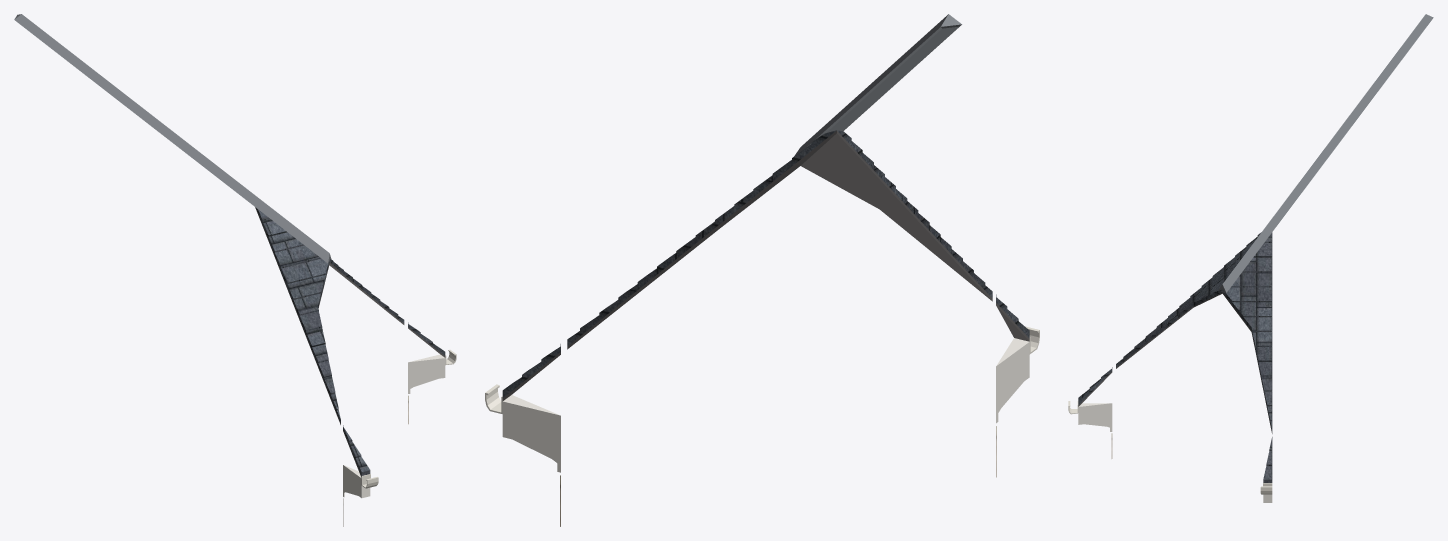
Rendered from roof_turret.glb.
The picture shows the model from 3 angles, left to right: view 1: azimuth 30°, elevation 25°; view 2: azimuth 150°, elevation 25°; view 3: azimuth 270°, elevation 25°; orthographic projection. The views are drawn at different scales.
Visible parts, largest first — view 1: roof_turret_shingles, roof_turret_ridge, roof_turret_trim, roof_turret_dark; view 2: roof_turret_dark, roof_turret_trim, roof_turret_shingles, roof_turret_ridge, roof_turret_gutter; view 3: roof_turret_shingles, roof_turret_ridge, roof_turret_trim, roof_turret_dark.
Part boxes in pixels (x1=…): roof_turret_shingles: x1=256, y1=208, x2=445, y2=475; roof_turret_ridge: x1=14, y1=14, x2=331, y2=263; roof_turret_trim: x1=343, y1=354, x2=445, y2=498; roof_turret_dark: x1=255, y1=207, x2=445, y2=477; roof_turret_dark: x1=502, y1=130, x2=1029, y2=400; roof_turret_trim: x1=502, y1=338, x2=1029, y2=472; roof_turret_shingles: x1=502, y1=130, x2=1029, y2=398; roof_turret_ridge: x1=794, y1=14, x2=961, y2=156; roof_turret_gutter: x1=485, y1=326, x2=1039, y2=413; roof_turret_shingles: x1=1078, y1=232, x2=1272, y2=482; roof_turret_ridge: x1=1218, y1=14, x2=1433, y2=293; roof_turret_trim: x1=1078, y1=403, x2=1272, y2=502; roof_turret_dark: x1=1078, y1=292, x2=1272, y2=433.
Size of the model in its own units: 4.62 by 5.3 by 4.62.
6 materials, 2 textured.
